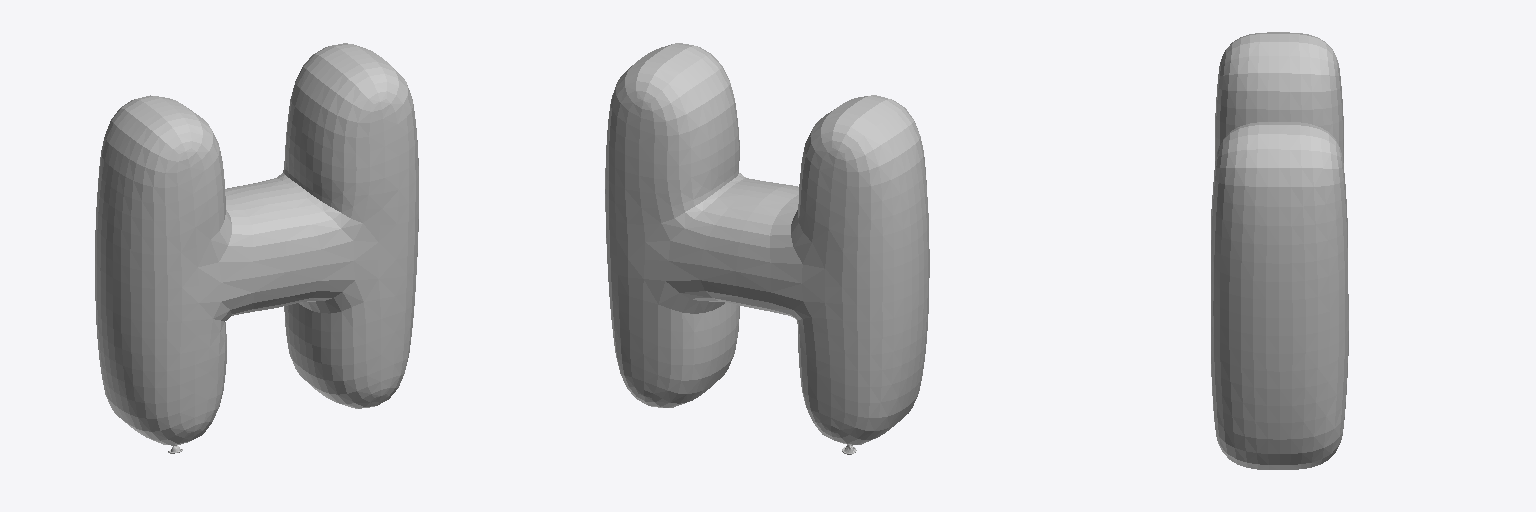
File: balloonh.obj
3 views of the same model, side by side, from view 1: azimuth 30°, elevation 25°; view 2: azimuth 150°, elevation 25°; view 3: azimuth 270°, elevation 25° (orthographic).
Parts seen in each view (by area): view 1: Balloon_Alphabet_Subdivision_H_Alphabet_H; view 2: Balloon_Alphabet_Subdivision_H_Alphabet_H; view 3: Balloon_Alphabet_Subdivision_H_Alphabet_H.
Part boxes in pixels (bbox=[...]): Balloon_Alphabet_Subdivision_H_Alphabet_H: bbox=[95, 43, 418, 453]; Balloon_Alphabet_Subdivision_H_Alphabet_H: bbox=[605, 43, 929, 454]; Balloon_Alphabet_Subdivision_H_Alphabet_H: bbox=[1211, 32, 1348, 469].
Bounding box in the file's own units: 44.81 × 50.35 × 17.91.